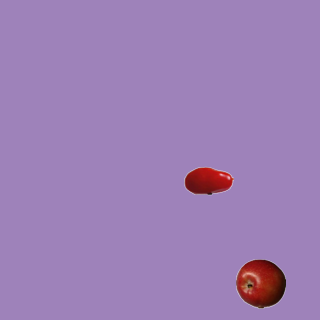Apple Braeburn: (235, 258, 285, 308)
Tomato 2: (183, 155, 233, 205)
